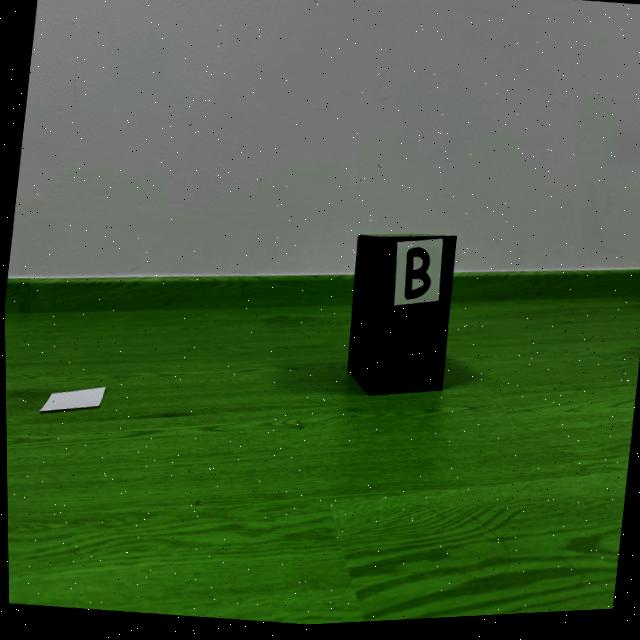B: (403, 251, 429, 304)
